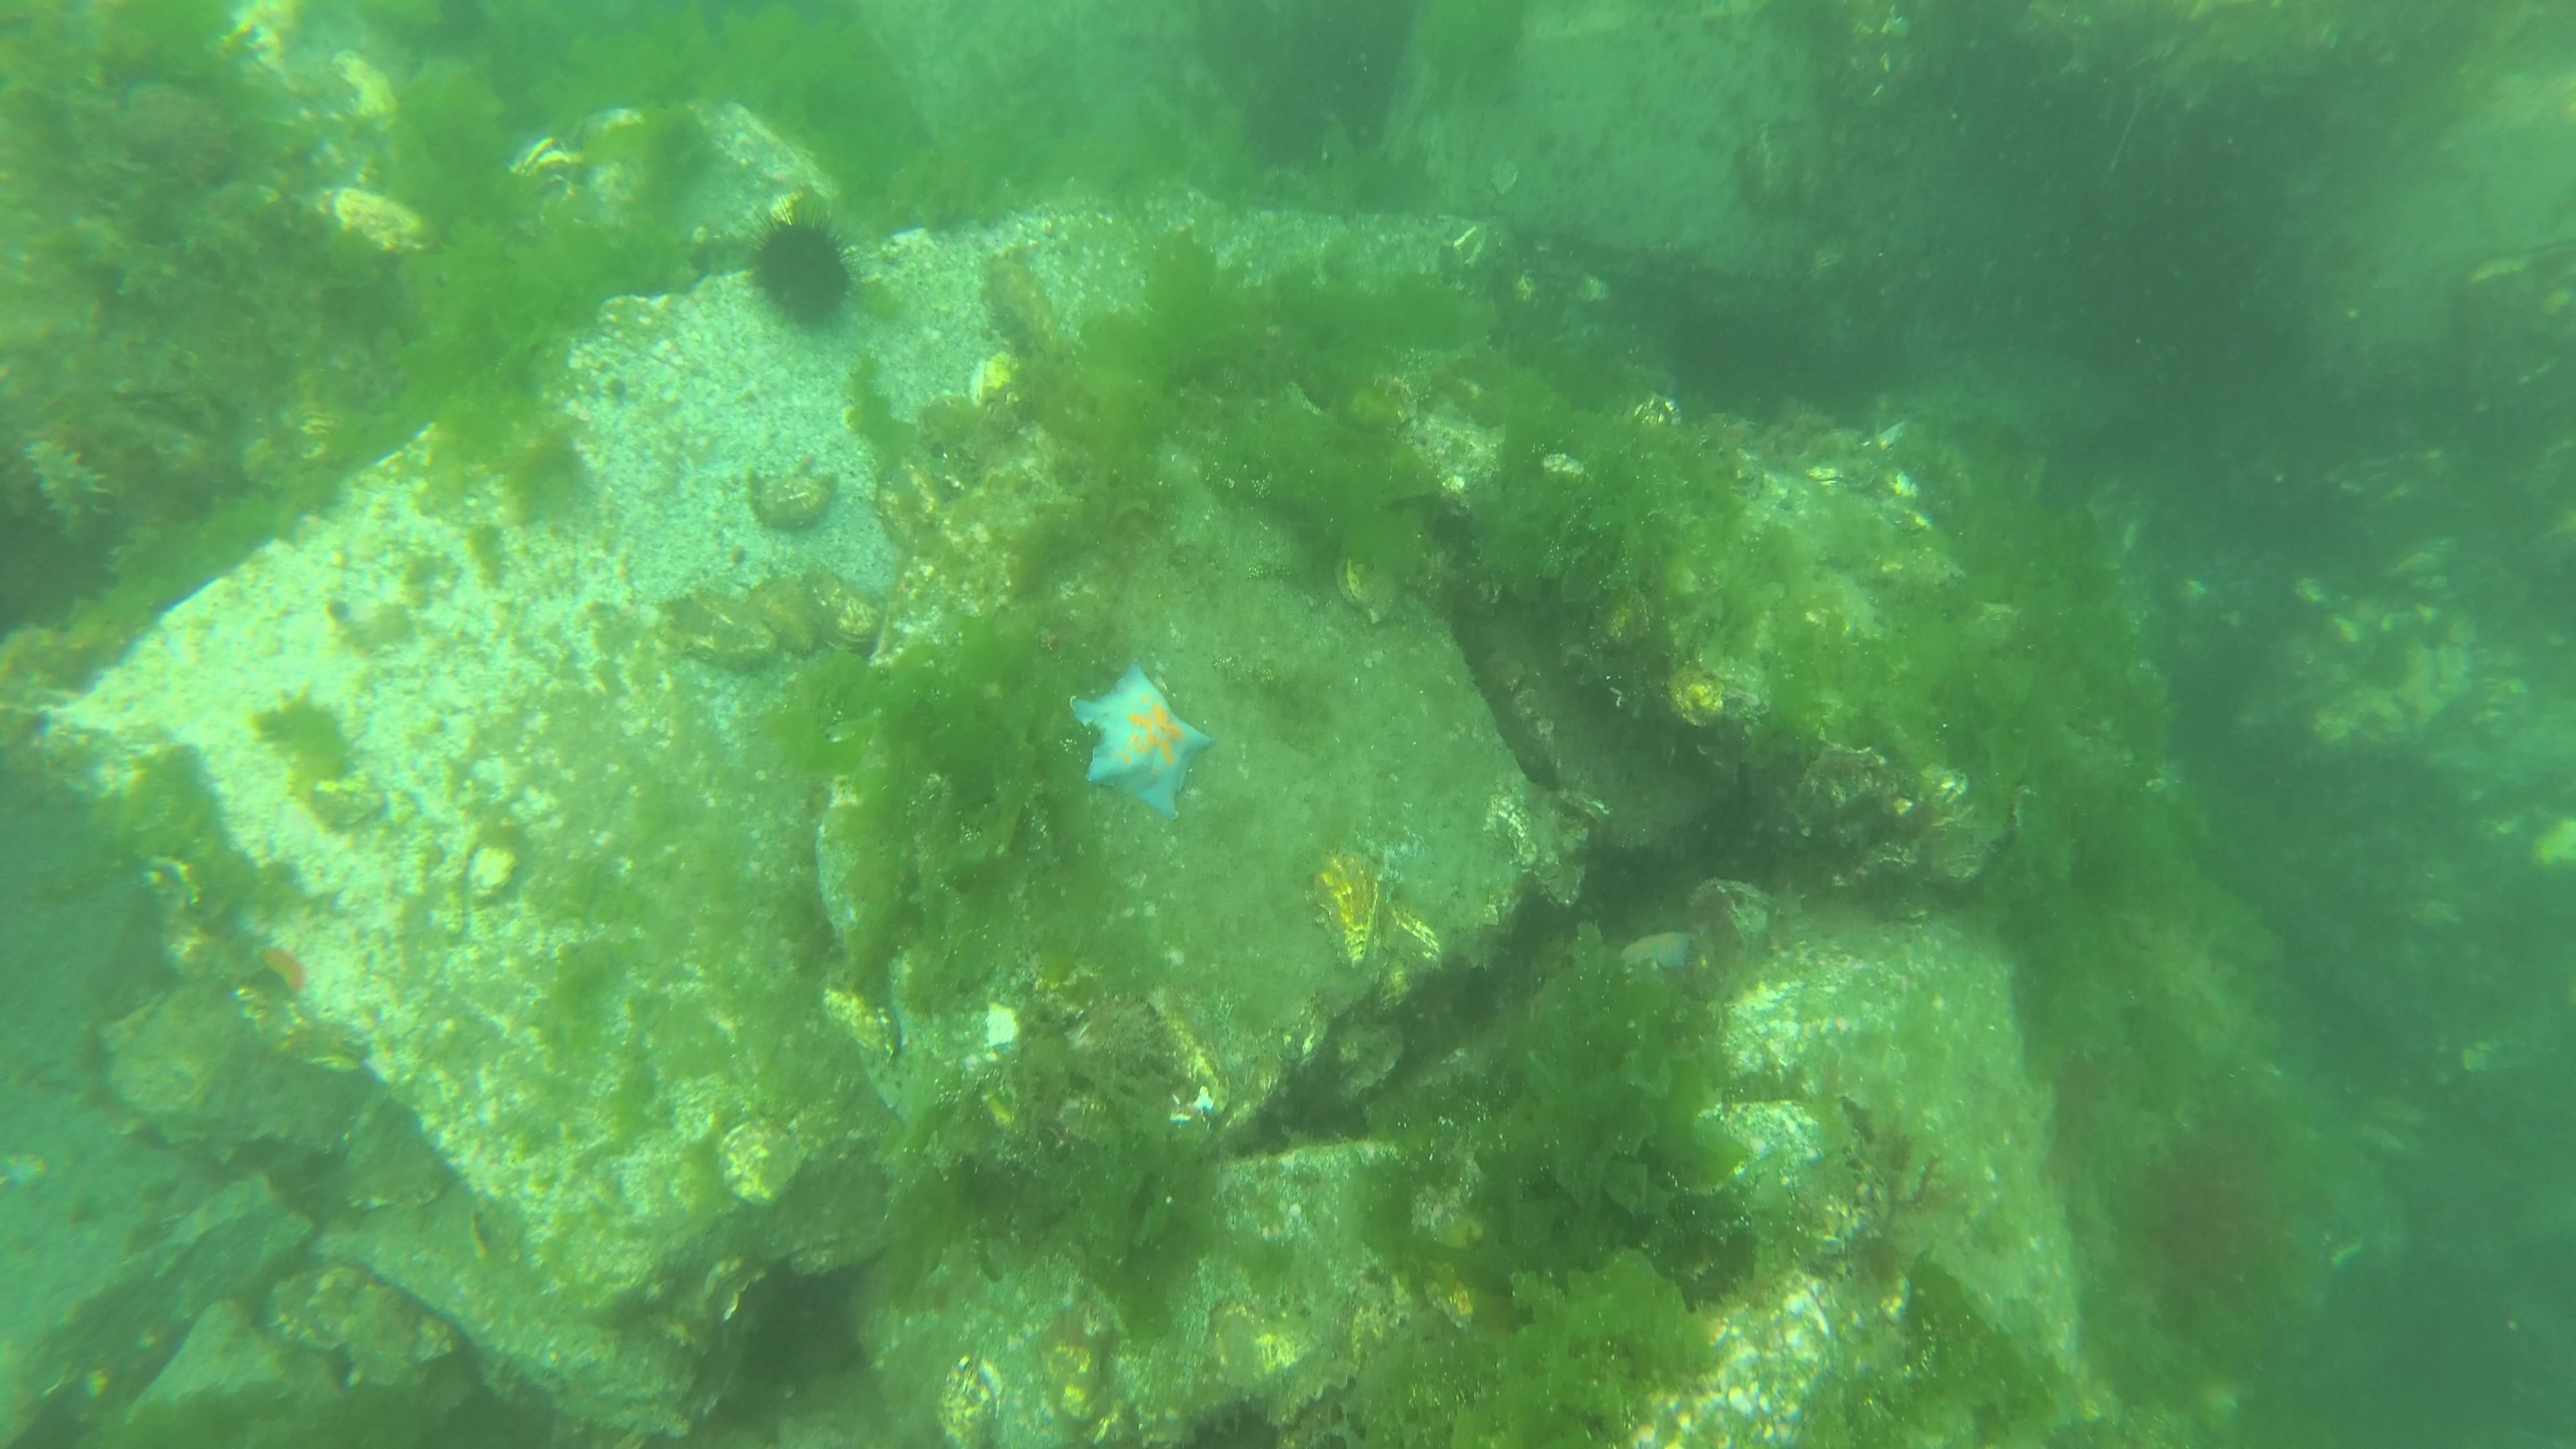echinus: (741, 198, 863, 333)
holothurian: (25, 441, 117, 545)
starfish: (1065, 655, 1217, 823), (1621, 931, 1693, 970)
